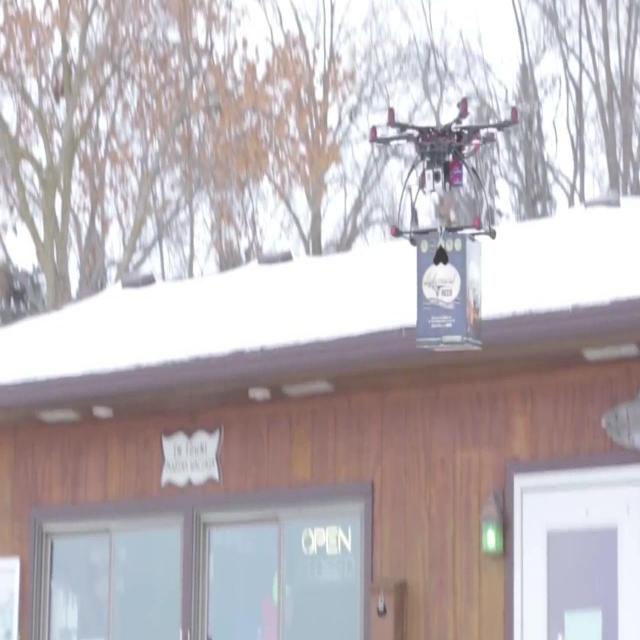UAV: (369, 98, 519, 240)
